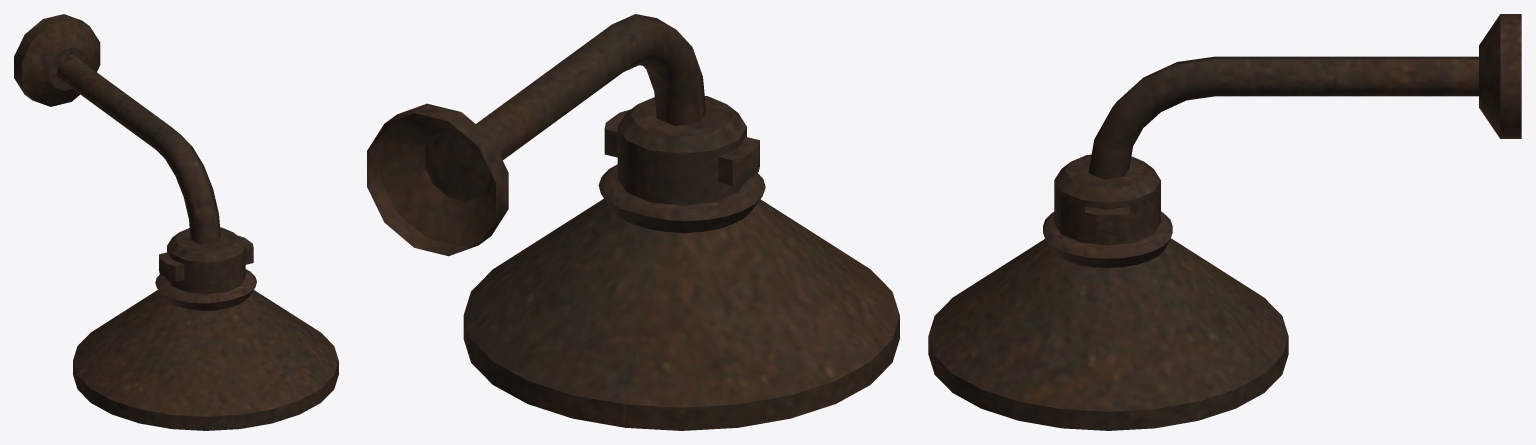
The model's file is lamp_mx_4_on.obj.
The picture shows the model from 3 angles, left to right: view 1: azimuth 30°, elevation 25°; view 2: azimuth 150°, elevation 25°; view 3: azimuth 270°, elevation 25°; orthographic projection. The views are drawn at different scales.
Visible parts, largest first — view 1: lamp_mx_4_on; view 2: lamp_mx_4_on; view 3: lamp_mx_4_on.
Part boxes in pixels (x1=…): lamp_mx_4_on: x1=14, y1=14, x2=338, y2=430; lamp_mx_4_on: x1=367, y1=14, x2=899, y2=430; lamp_mx_4_on: x1=928, y1=14, x2=1521, y2=430.
Size of the model in its own units: 0.51 by 0.5559 by 0.84.
